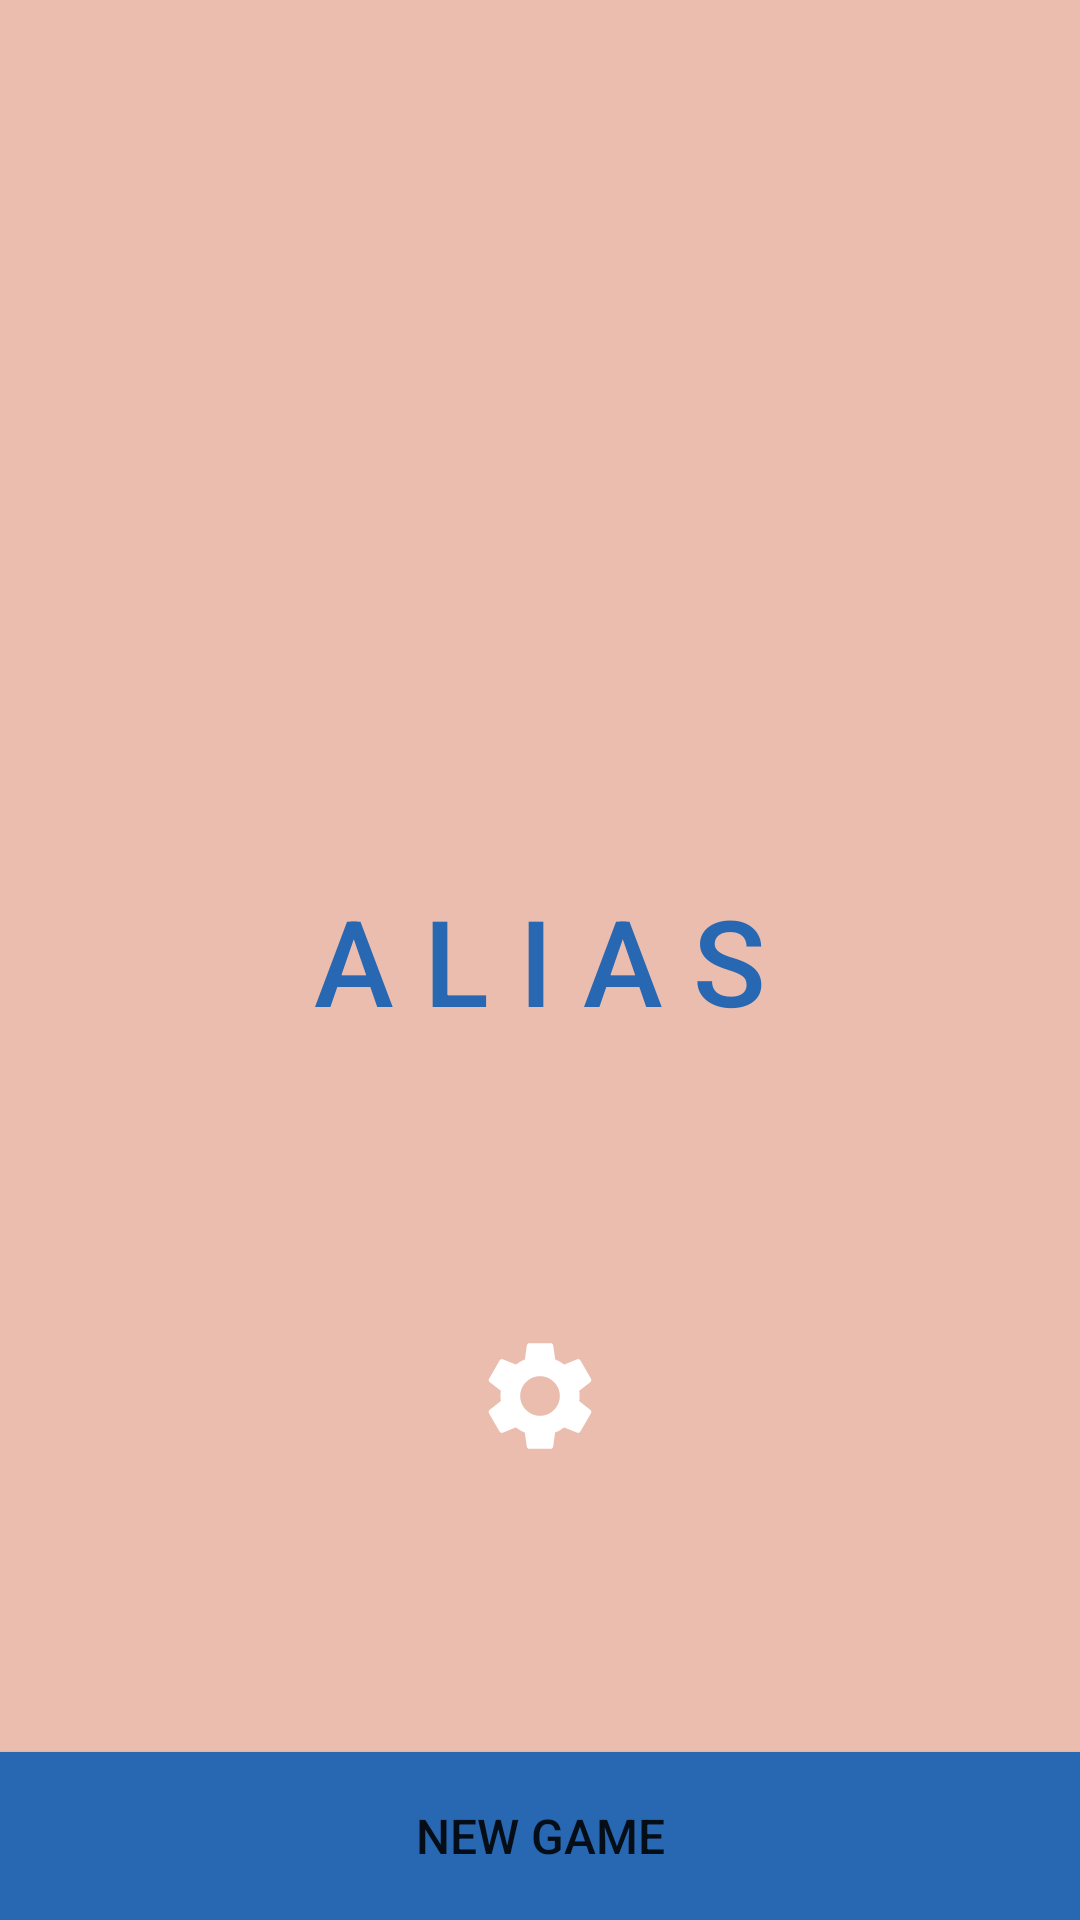

Point at icon controls on the screen. Image size 1080×1920, points as (x,y).
settings: (540,1396)
